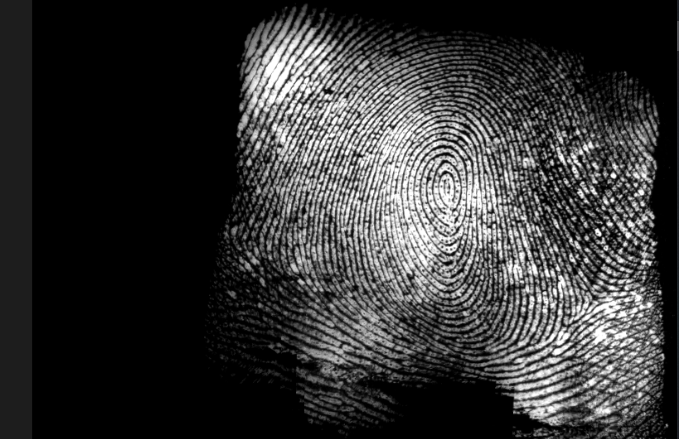deltas: (561, 264, 628, 321)
nucleo: (421, 154, 471, 218)
